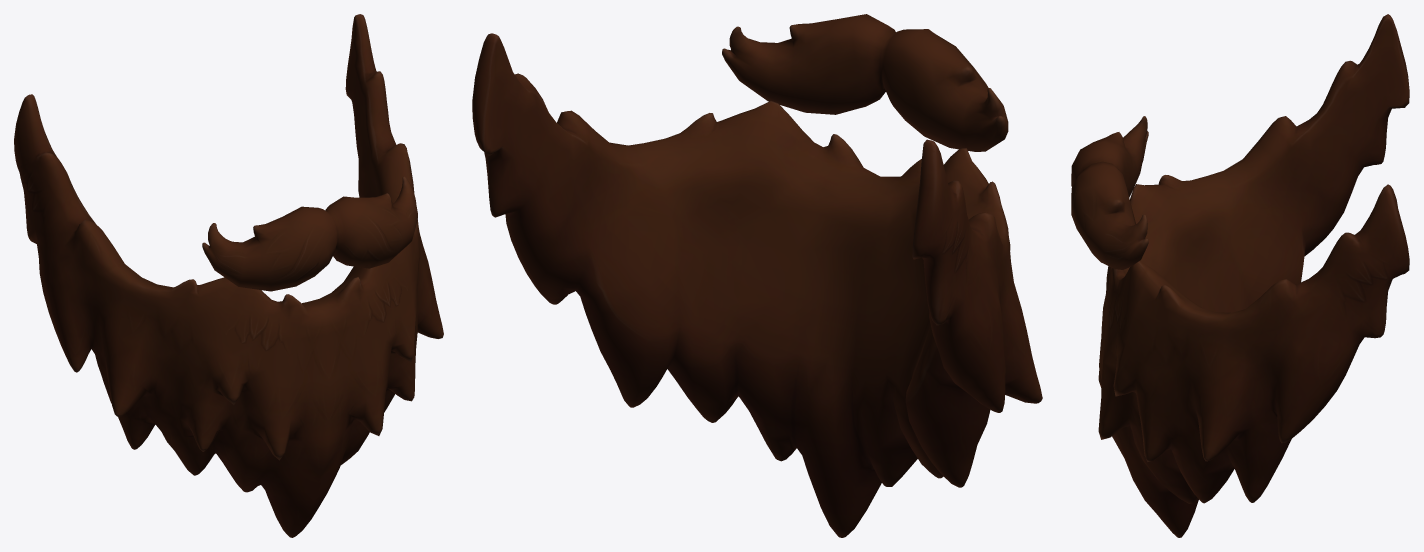
File: beard.glb
3 views of the same model, side by side, from view 1: azimuth 30°, elevation 25°; view 2: azimuth 150°, elevation 25°; view 3: azimuth 270°, elevation 25° (orthographic). The views are drawn at different scales.
Parts seen in each view (by area): view 1: Mesh_0; view 2: Mesh_0; view 3: Mesh_0.
Part boxes in pixels (bbox=[...]): Mesh_0: bbox=[14, 14, 443, 537]; Mesh_0: bbox=[472, 14, 1042, 537]; Mesh_0: bbox=[1071, 14, 1409, 537].
Size of the model in its own units: 2.41 by 2.66 by 1.86.
Materials: 1 (1 with a texture image).
